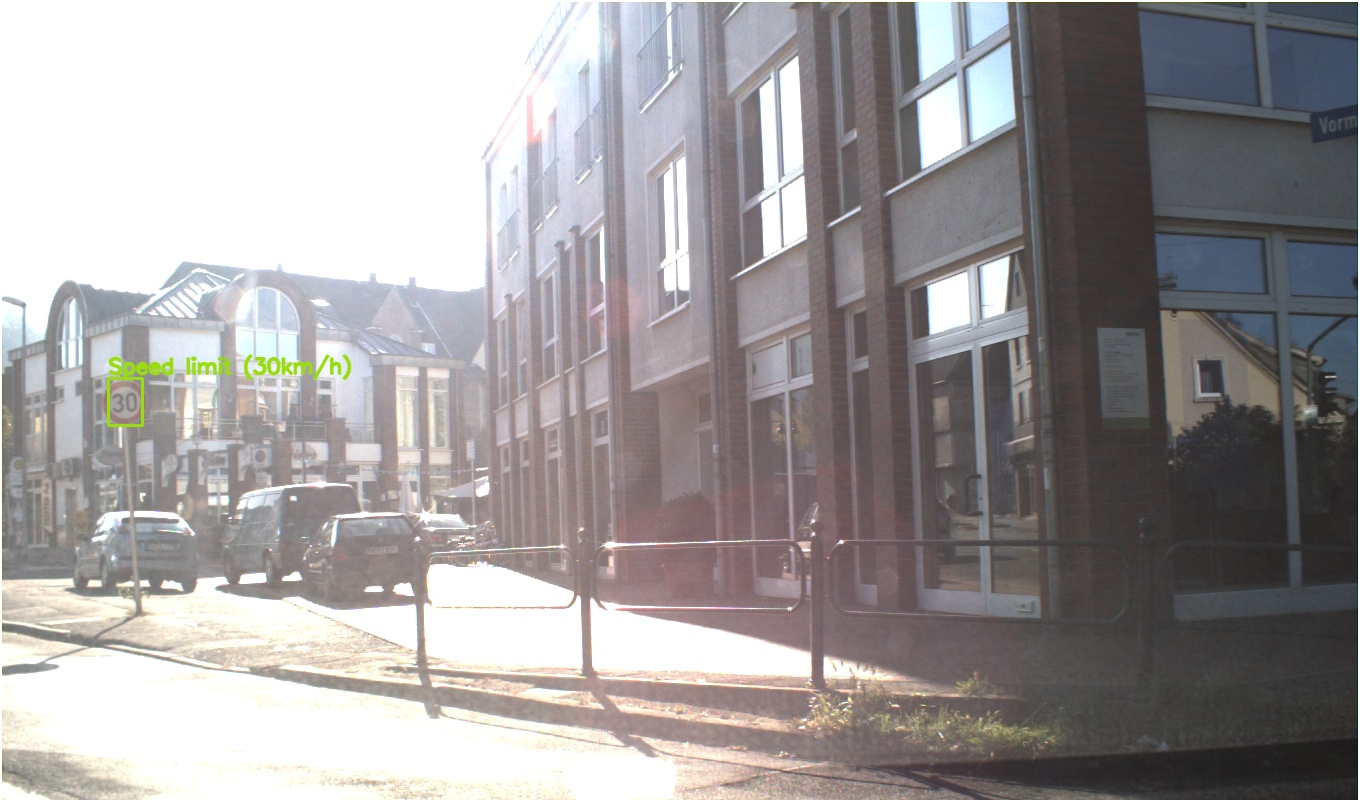Turn right ahead: (683, 469, 703, 493)
Yield: (678, 443, 707, 469)
